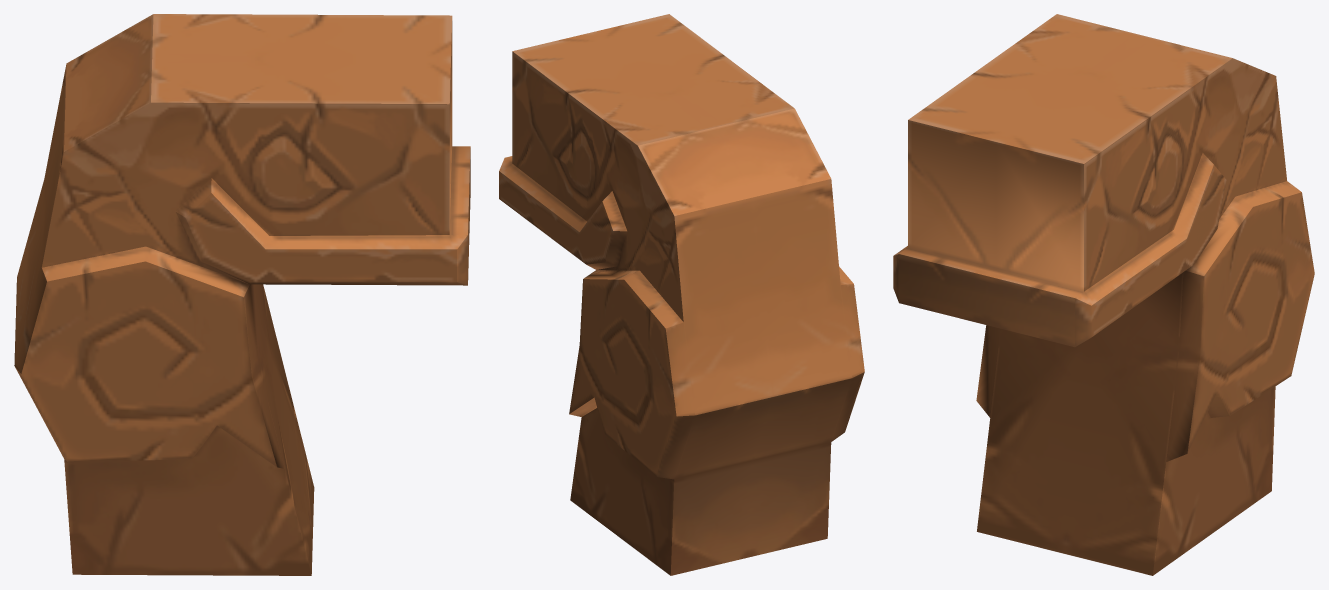
Rendered from xiaowujian03.FBX.
The picture shows the model from 3 angles, left to right: view 1: azimuth 30°, elevation 25°; view 2: azimuth 150°, elevation 25°; view 3: azimuth 270°, elevation 25°; orthographic projection. The views are drawn at different scales.
Parts seen in each view (by area): view 1: Object044; view 2: Object044; view 3: Object044.
Boxes of the visible parts, <box> form: Object044: <box>14,14,470,575</box>; Object044: <box>499,14,864,575</box>; Object044: <box>893,14,1314,575</box>.
Bounding box in the file's own units: 209 × 217 × 180.
